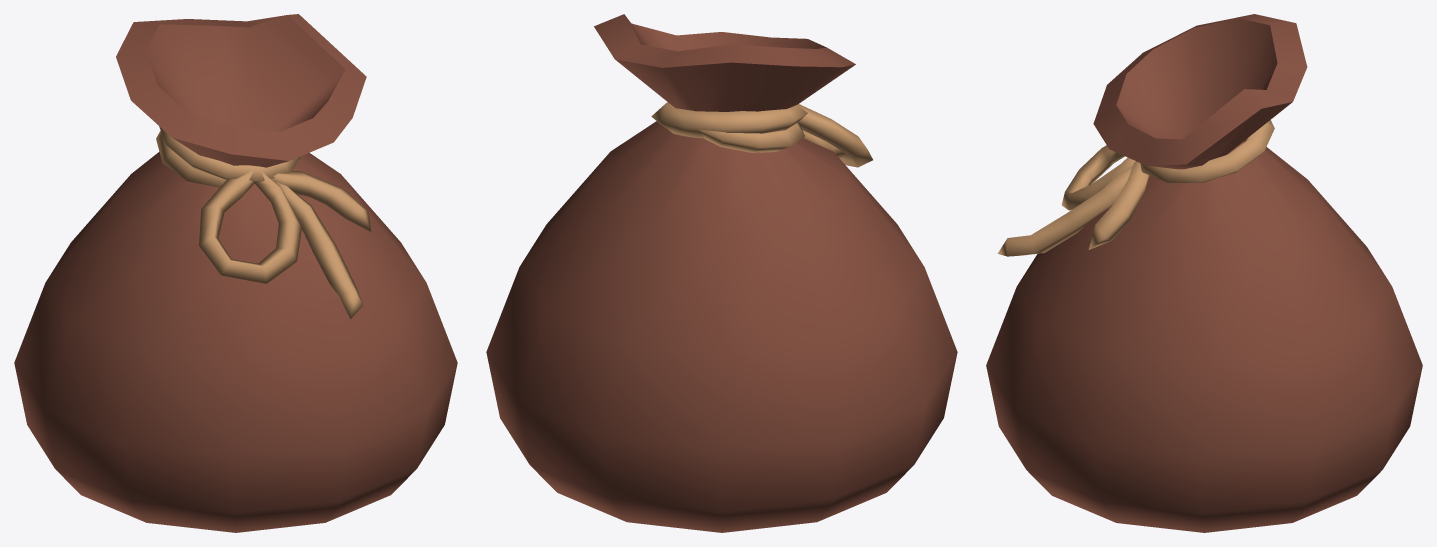
File: Bundle_Brown.fbx
3 views of the same model, side by side, from view 1: azimuth 30°, elevation 25°; view 2: azimuth 150°, elevation 25°; view 3: azimuth 270°, elevation 25° (orthographic). The views are drawn at different scales.
Parts seen in each view (by area): view 1: Bundle_Brown; view 2: Bundle_Brown; view 3: Bundle_Brown.
Boxes of the visible parts, box(x1,y1,x2,y2) form: Bundle_Brown: box(14, 14, 457, 532); Bundle_Brown: box(486, 14, 957, 532); Bundle_Brown: box(986, 14, 1422, 532).
Bounding box in the file's own units: 64.07 × 66.8 × 64.07.
